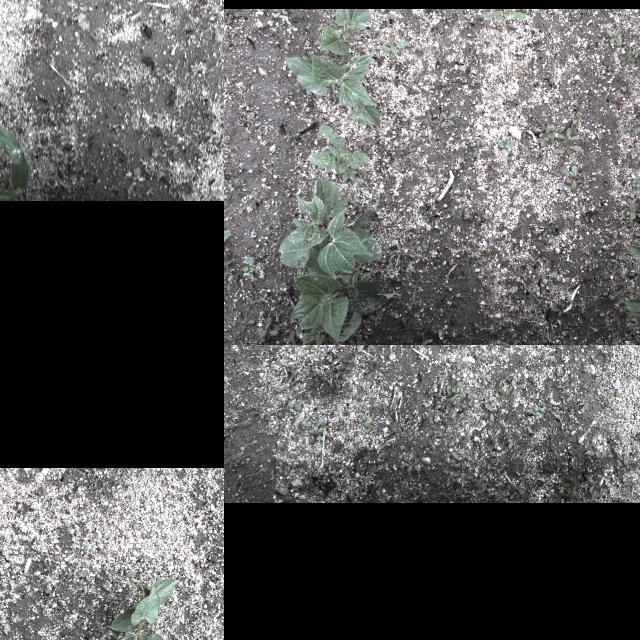crop: (279, 178, 385, 282), (292, 273, 402, 343), (284, 50, 380, 126), (106, 574, 178, 640), (0, 98, 29, 200), (320, 8, 370, 58)
weed: (310, 124, 368, 184), (440, 381, 468, 405), (378, 35, 410, 55), (558, 164, 582, 190), (531, 120, 557, 144), (554, 136, 582, 156), (486, 8, 528, 20), (259, 316, 279, 338), (245, 462, 263, 486), (286, 388, 306, 409), (621, 201, 640, 221), (472, 206, 490, 227), (244, 257, 262, 277), (566, 467, 584, 487), (469, 138, 485, 160), (452, 452, 471, 470), (557, 127, 581, 141), (366, 361, 382, 382), (441, 109, 457, 129), (76, 568, 92, 588), (354, 134, 376, 148), (548, 303, 570, 317), (224, 414, 246, 428), (250, 406, 272, 420), (415, 324, 433, 341), (605, 28, 621, 46), (422, 112, 440, 128), (508, 379, 526, 395), (564, 296, 586, 308), (498, 136, 514, 152), (588, 476, 604, 492), (403, 457, 421, 471), (489, 383, 507, 397), (484, 401, 496, 421), (508, 429, 520, 448), (474, 350, 488, 366), (509, 480, 525, 494), (245, 116, 263, 128), (332, 368, 352, 378), (621, 50, 635, 64), (414, 238, 430, 250), (422, 412, 434, 428), (357, 345, 377, 354), (296, 424, 310, 436), (311, 417, 323, 431), (618, 452, 630, 466), (564, 482, 576, 496), (594, 370, 610, 380), (316, 426, 328, 439), (569, 101, 583, 112), (556, 381, 570, 392), (274, 8, 286, 20), (524, 420, 536, 432), (104, 596, 118, 606), (286, 454, 296, 468), (309, 432, 319, 446), (342, 382, 352, 396), (362, 412, 372, 426), (460, 405, 470, 419), (276, 422, 284, 438), (606, 389, 622, 397), (608, 54, 614, 74), (306, 462, 316, 474), (451, 358, 461, 370), (462, 397, 472, 408), (534, 407, 544, 418), (333, 441, 343, 451), (348, 435, 358, 445), (380, 366, 390, 376), (545, 234, 553, 246), (627, 126, 639, 134), (336, 418, 344, 430), (487, 374, 495, 386), (570, 460, 582, 468), (631, 178, 640, 188), (402, 389, 412, 398), (631, 372, 640, 382), (277, 361, 285, 372), (381, 438, 392, 446), (292, 420, 306, 426), (564, 494, 578, 500), (613, 316, 621, 326), (81, 542, 91, 550), (226, 429, 234, 439), (578, 398, 588, 406), (618, 462, 628, 470), (636, 49, 640, 68), (440, 413, 448, 422), (489, 452, 496, 462), (250, 192, 258, 200), (70, 598, 78, 606), (447, 417, 455, 425), (430, 422, 438, 430), (528, 397, 536, 403), (456, 345, 467, 349), (448, 345, 455, 351), (506, 345, 517, 348), (8, 590, 12, 598), (128, 594, 136, 598), (396, 408, 402, 412)
